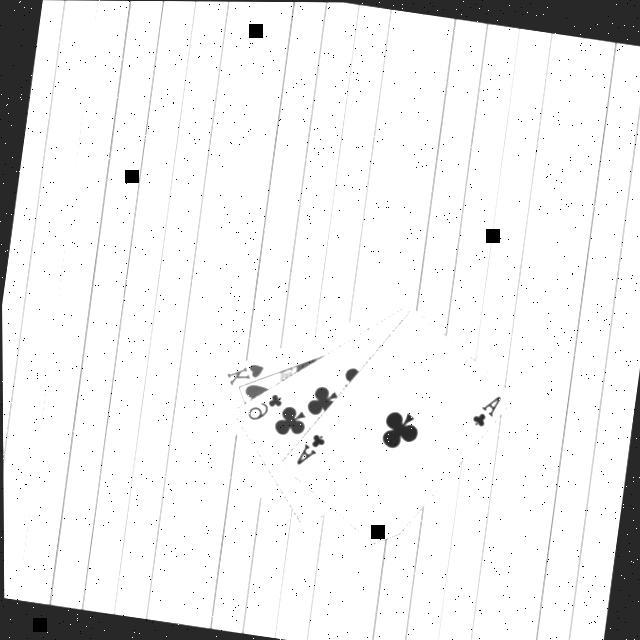9C: (242, 387, 287, 428)
AC: (292, 429, 329, 473), (467, 390, 504, 434)
KH: (221, 357, 267, 394)
